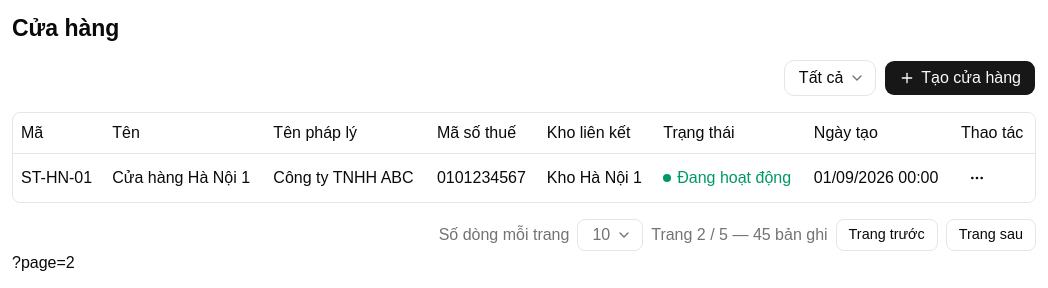
Test: StoresPage — trang và bộ lọc trên URL › đổi bộ lọc khi đang ở trang 2 → quay về trang 1
The width and height of the screenshot is (1048, 288).
Expected: the link "Cửa hàng Hà Nội 1" is shown, left=112, top=166, right=250, bottom=190
Step 1. Click the dropdown named "Trạng thái" → coordinates (830, 78), box left=784, top=60, right=876, bottom=96
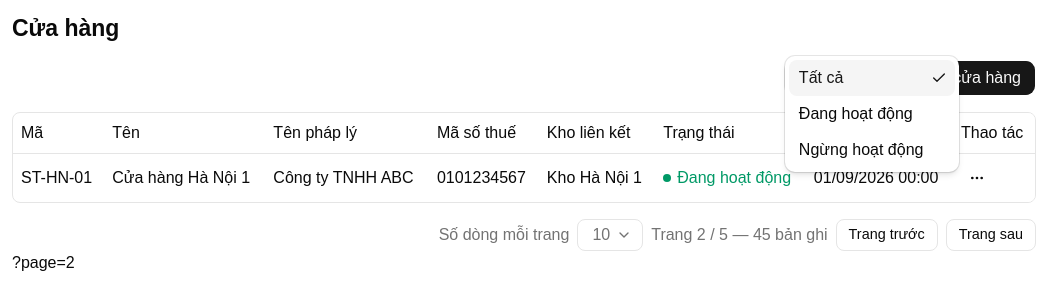
Step 2. Click the option "Đang hoạt động" → coordinates (856, 114), box left=799, top=105, right=913, bottom=122
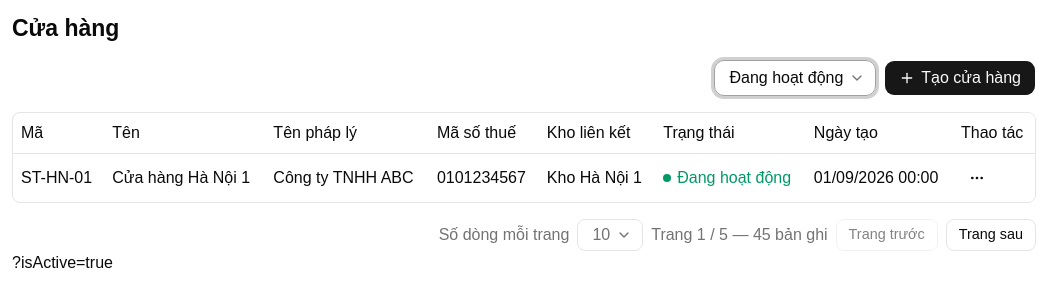
Result: the text with test id "location" shows "isActive=true" at left=12, top=254, right=113, bottom=270
Result: the text with test id "location" no longer shows "page=2" at left=12, top=254, right=113, bottom=270
